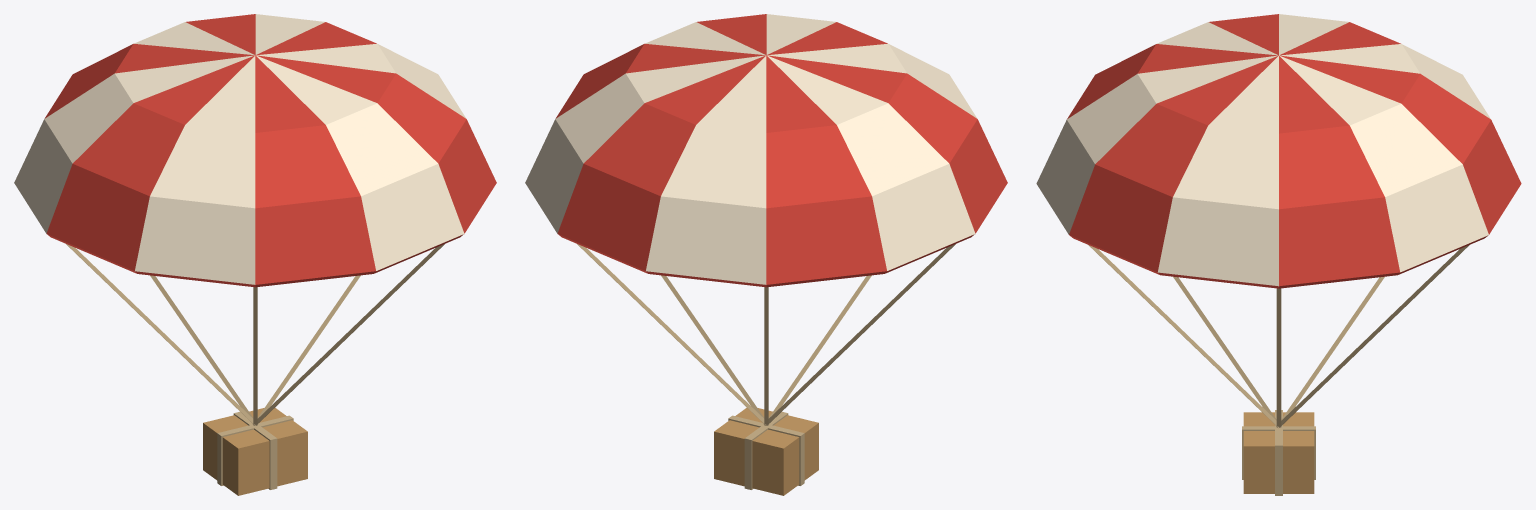
Rendered from parcel_chute.glb.
3 renders of one model, left to right at view 1: azimuth 30°, elevation 25°; view 2: azimuth 150°, elevation 25°; view 3: azimuth 270°, elevation 25°, orthographic.
Parts seen in each view (by area): view 1: ParcelChute; view 2: ParcelChute; view 3: ParcelChute.
Boxes of the visible parts, x1,y1,x2,y2 form: ParcelChute: [14, 14, 496, 495]; ParcelChute: [525, 14, 1007, 495]; ParcelChute: [1036, 14, 1521, 495].
Bounding box in the file's own units: 4.8 × 4.61 × 4.8.
